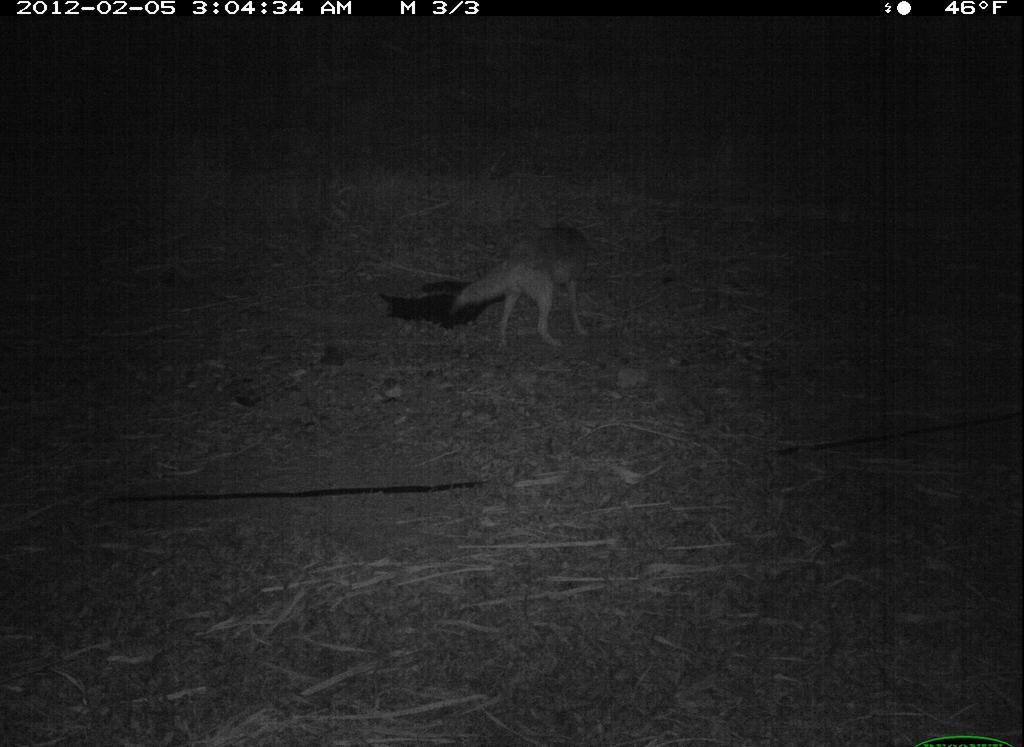coyote: (443, 216, 611, 365)
